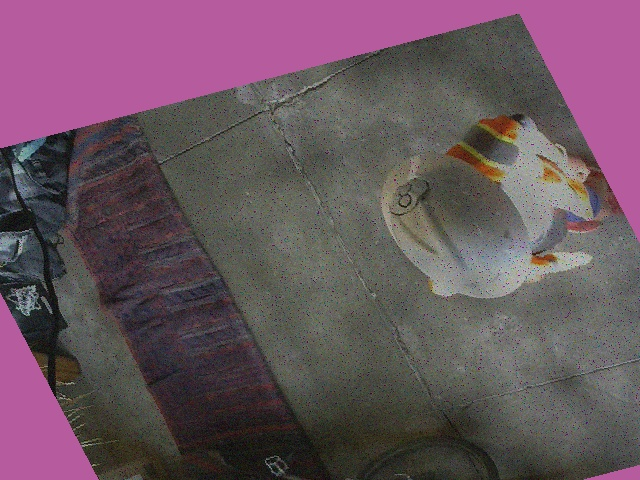eight: (379, 175, 439, 214)
